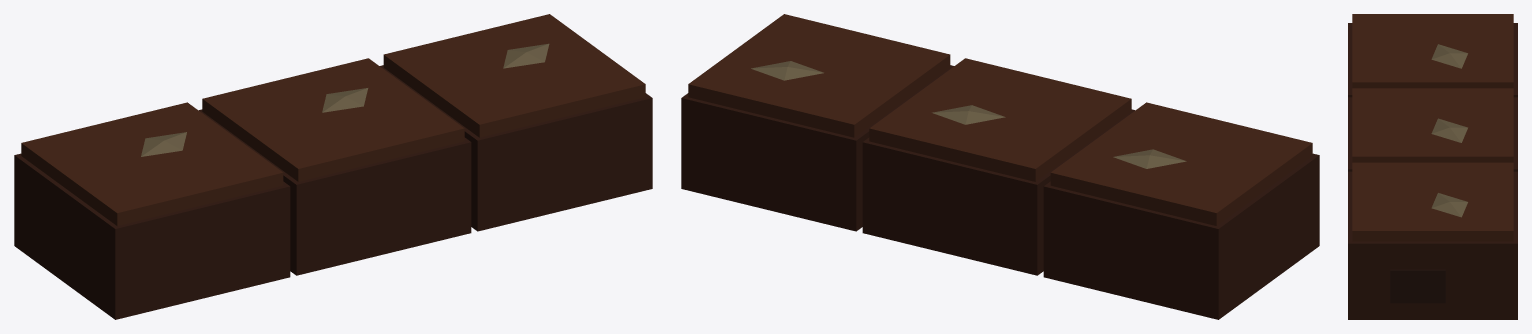
Rendered from pile-mud-3.obj.
The picture shows the model from 3 angles, left to right: view 1: azimuth 30°, elevation 25°; view 2: azimuth 150°, elevation 25°; view 3: azimuth 270°, elevation 25°; orthographic projection. The views are drawn at different scales.
Visible parts, largest first — view 1: pile-mud-3; view 2: pile-mud-3; view 3: pile-mud-3.
Part boxes in pixels (x1,y1,x2,y2): pile-mud-3: [14, 14, 652, 319]; pile-mud-3: [681, 14, 1319, 319]; pile-mud-3: [1348, 14, 1517, 319].
Bounding box in the file's own units: 0.869 × 0.167 × 0.282.
Materials: 1 (1 with a texture image).
